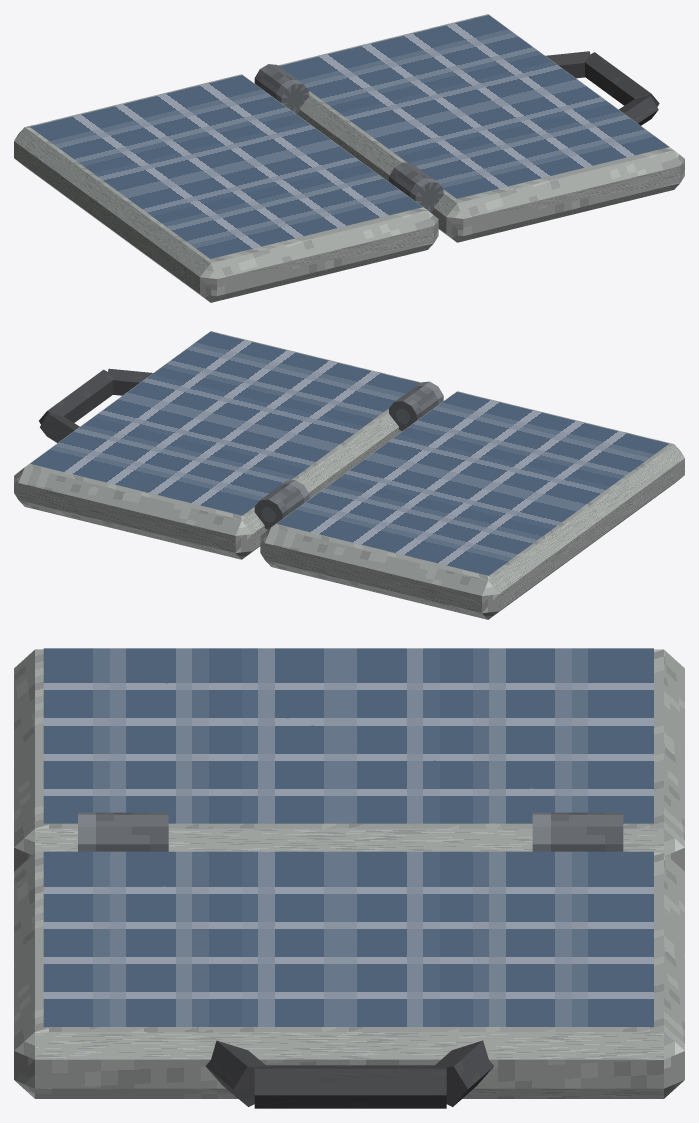
File: folding_solar_panel_v2.glb
3 renders of one model, top to bottom at view 1: azimuth 30°, elevation 25°; view 2: azimuth 150°, elevation 25°; view 3: azimuth 270°, elevation 25°, orthographic. The views are drawn at different scales.
Visible parts, largest first — view 1: block_laminated blue cells (×2), block_solar panel frame (×2), block_panel hinge barrel (×2), block_suitcase carrying handle 1, block_suitcase carrying handle 2, block_suitcase carrying handle 0; view 2: block_laminated blue cells (×2), block_solar panel frame (×2), block_panel hinge barrel (×2), block_suitcase carrying handle 1, block_suitcase carrying handle 0, block_suitcase carrying handle 2; view 3: block_laminated blue cells (×2), block_solar panel frame (×2), block_suitcase carrying handle 1, block_panel hinge barrel (×2), block_suitcase carrying handle 2, block_suitcase carrying handle 0.
Part boxes in pixels (x1,y1,x2,y2): block_laminated blue cells (×2): (30,15,668,258); block_solar panel frame (×2): (14,14,684,302); block_panel hinge barrel (×2): (254,64,443,212); block_suitcase carrying handle 1: (584,52,659,106); block_suitcase carrying handle 2: (619,96,658,125); block_suitcase carrying handle 0: (545,51,590,78); block_laminated blue cells (×2): (30,332,668,575); block_solar panel frame (×2): (14,331,684,619); block_panel hinge barrel (×2): (254,381,443,529); block_suitcase carrying handle 1: (39,369,113,424); block_suitcase carrying handle 0: (40,413,79,442); block_suitcase carrying handle 2: (108,368,152,395); block_laminated blue cells (×2): (43,648,653,1026); block_solar panel frame (×2): (14,649,684,1098); block_suitcase carrying handle 1: (254,1065,446,1108); block_panel hinge barrel (×2): (78,812,623,851); block_suitcase carrying handle 2: (205,1040,265,1106); block_suitcase carrying handle 0: (435,1040,493,1106).
Size of the model in its own units: 0.83 by 0.0832 by 0.5438.
1 material, 1 textured.
